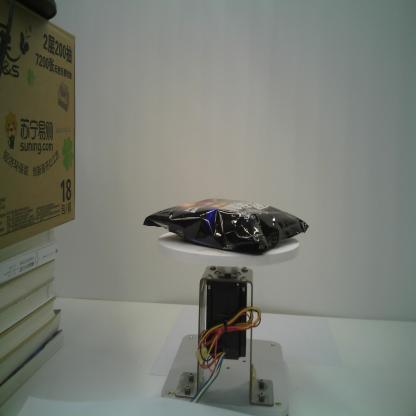Instant Noodles: (142, 197, 310, 257)
